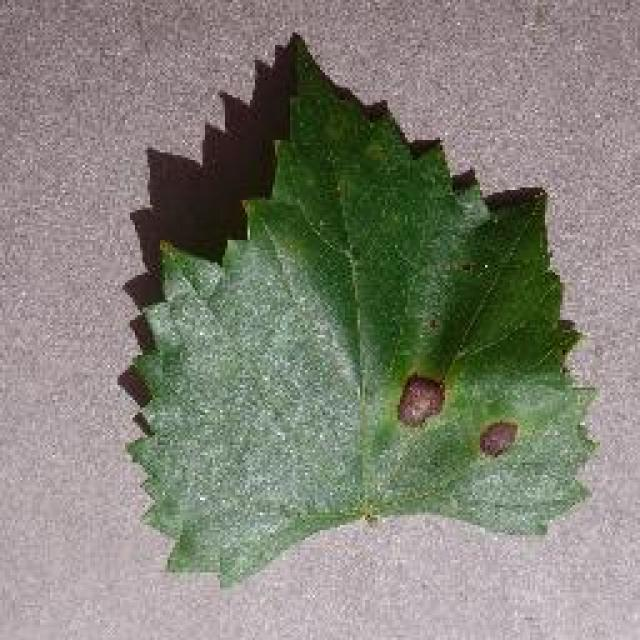Grape___Black_rot: (121, 29, 604, 593)
